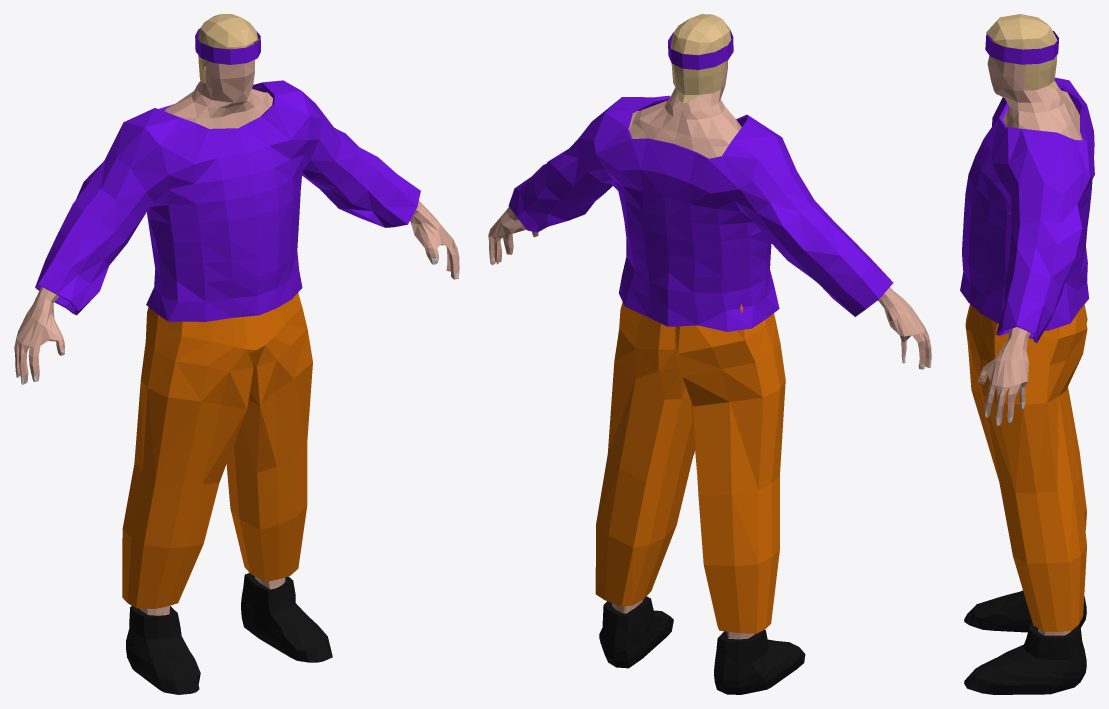
The model's file is speler.fbx.
The picture shows the model from 3 angles, left to right: view 1: azimuth 30°, elevation 25°; view 2: azimuth 150°, elevation 25°; view 3: azimuth 270°, elevation 25°; orthographic projection.
Parts seen in each view (by area): view 1: Cube.005, Shorts, Men, Men.001, Men.004, Men.002, Cylinder.004; view 2: Shorts, Cube.005, Men, Men.004, Men.001, Men.002, Cylinder.004; view 3: Cube.005, Shorts, Men, Men.001, Men.002, Men.004, Cylinder.004.
Part boxes in pixels (x1,y1,x2,y2): Cube.005: [35, 80, 420, 321]; Shorts: [122, 287, 312, 608]; Men: [14, 42, 459, 615]; Men.001: [241, 573, 332, 662]; Men.004: [126, 606, 200, 694]; Men.002: [198, 14, 258, 83]; Cylinder.004: [195, 28, 260, 64]; Shorts: [595, 302, 785, 633]; Cube.005: [508, 95, 893, 331]; Men: [488, 60, 931, 639]; Men.004: [714, 629, 805, 694]; Men.001: [599, 596, 673, 668]; Men.002: [671, 14, 731, 102]; Cylinder.004: [668, 29, 733, 69]; Cube.005: [960, 77, 1094, 342]; Shorts: [965, 304, 1087, 631]; Men: [978, 39, 1082, 635]; Men.001: [964, 623, 1086, 694]; Men.002: [986, 14, 1057, 90]; Men.004: [964, 590, 1086, 632]; Cylinder.004: [985, 31, 1058, 64].
Bounding box in the file's own units: 130 × 183 × 35.
